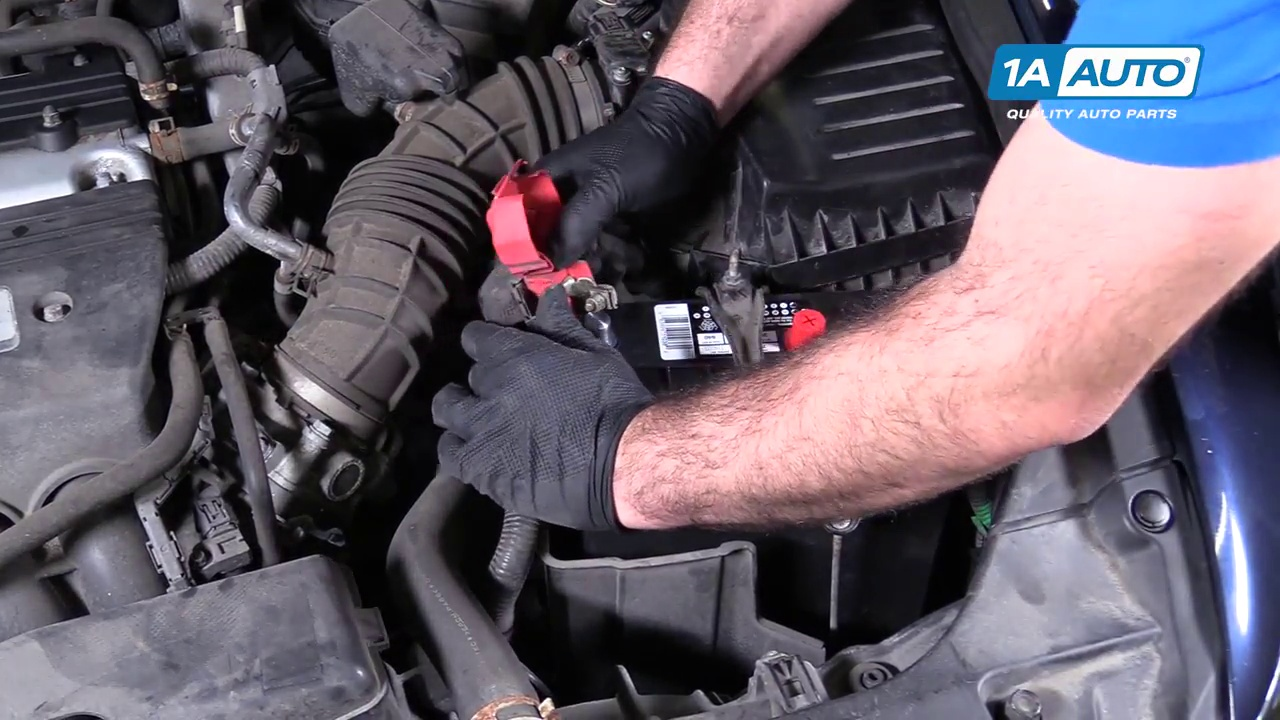battery: (508, 248, 934, 415)
pos_touched: (474, 177, 632, 370)
